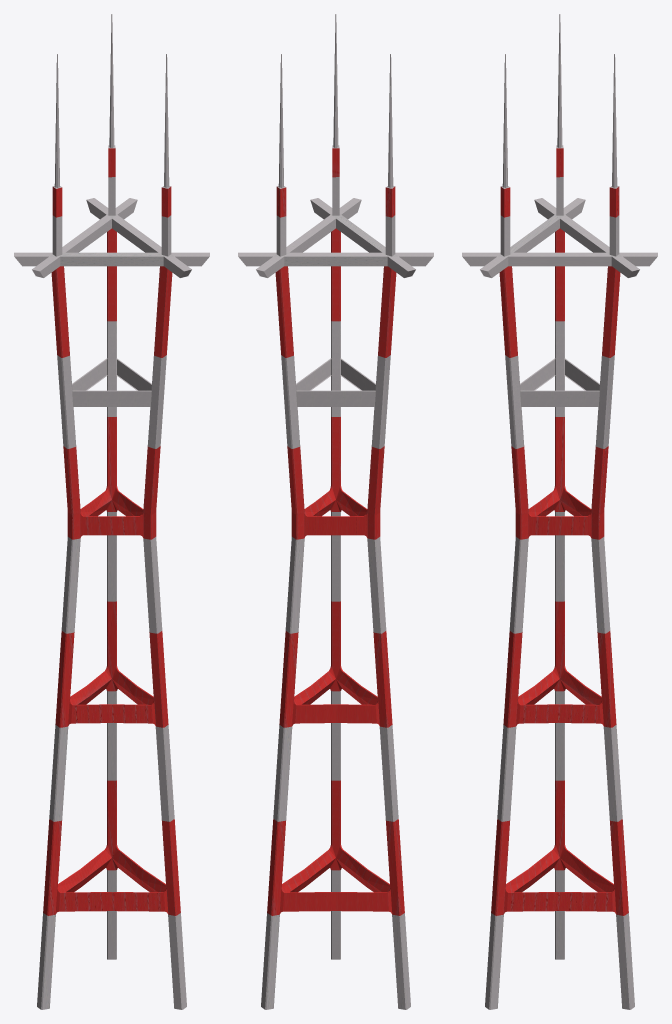
The model's file is transmitter_sfs.obj.
3 renders of one model, left to right at view 1: azimuth 30°, elevation 25°; view 2: azimuth 150°, elevation 25°; view 3: azimuth 270°, elevation 25°, orthographic.
Visible parts, largest first — view 1: transmitter_sfs; view 2: transmitter_sfs; view 3: transmitter_sfs.
Boxes of the visible parts, x1,y1,x2,y2 form: transmitter_sfs: [14, 14, 209, 1009]; transmitter_sfs: [238, 14, 433, 1009]; transmitter_sfs: [462, 14, 657, 1009].
Bounding box in the file's own units: 29.65 × 178 × 33.32.
Materials: 3 (3 with a texture image).
